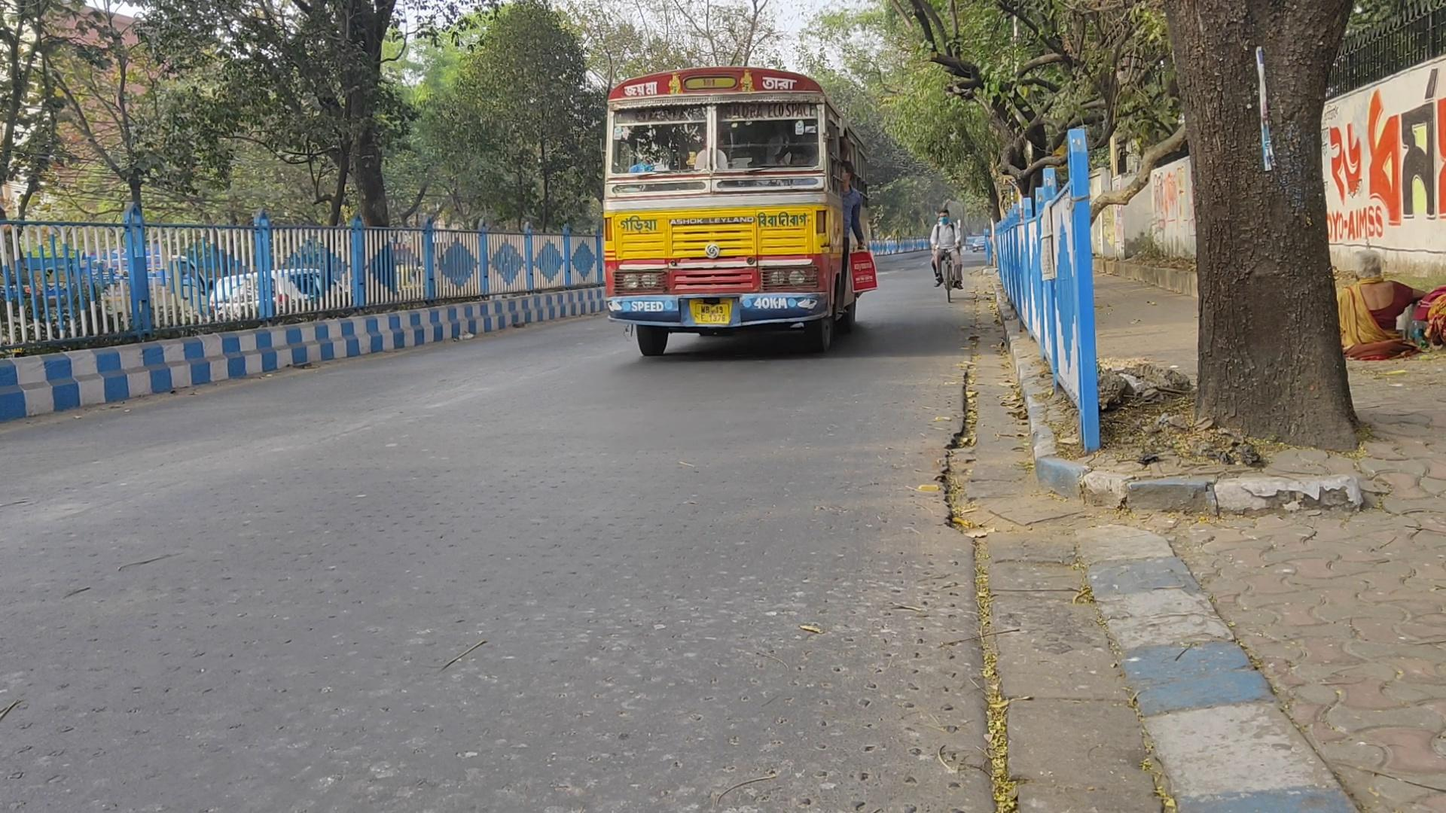Bus: (604, 65, 872, 360)
bike: (931, 208, 963, 303)
